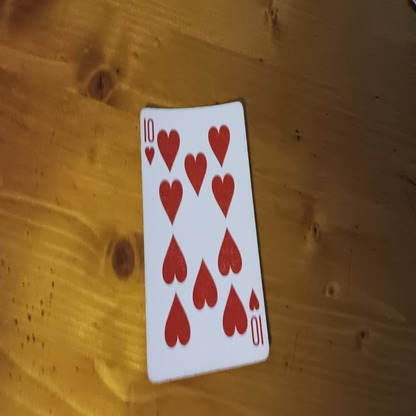10h: (244, 290, 267, 345), (143, 116, 158, 164)
